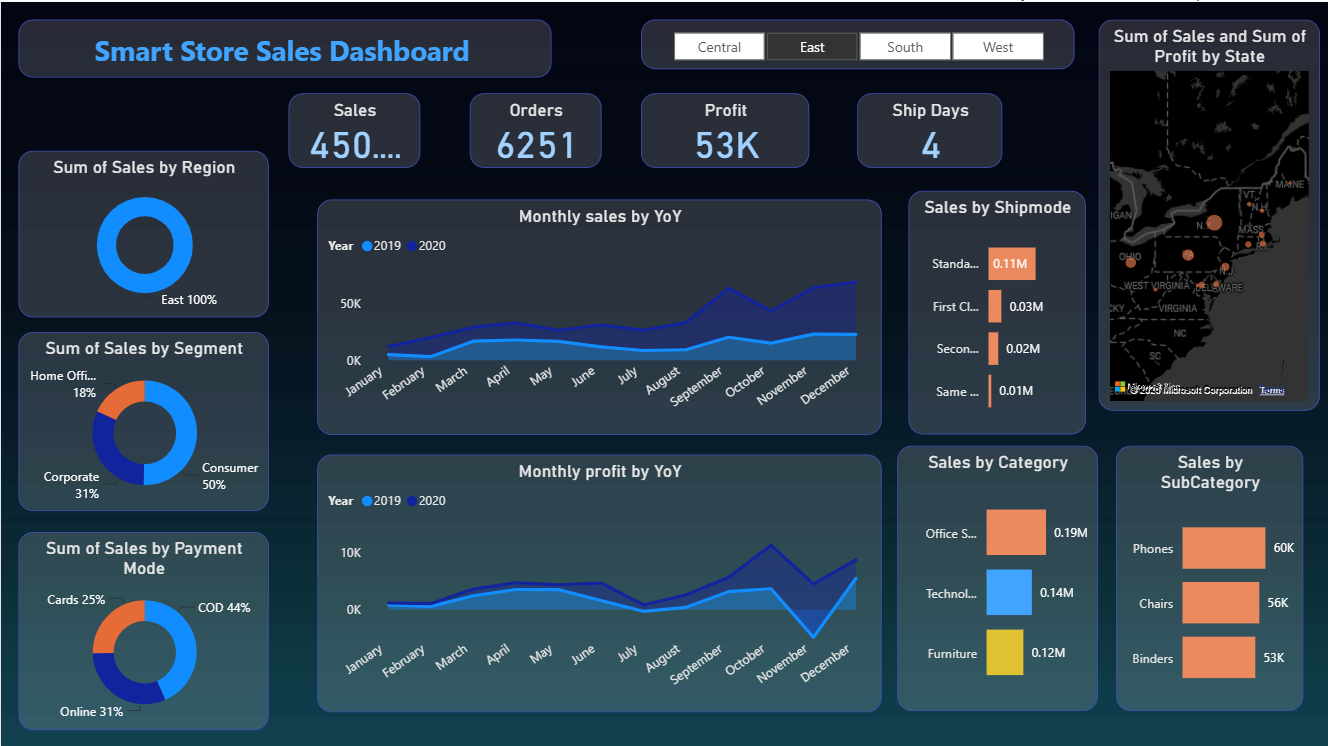

The dashboard page shown, as its layout file describes it:
{"tool":"powerbi","page":{"name":"Page 1","canvas":[1280,720],"ordinal":0},"visuals":[{"type":"clusteredBarChart","title":" Sales by Category","fields":{"Category":["SuperStore_Sales_Dataset.Category"],"Y":["Sum(SuperStore_Sales_Dataset.Sales)"]},"box":[864.4,428.8,193.3,255.8],"z":0},{"type":"clusteredBarChart","title":" Sales by SubCategory","fields":{"Category":["SuperStore_Sales_Dataset.Sub-Category"],"Y":["Sum(SuperStore_Sales_Dataset.Sales)"]},"box":[1075.9,428.6,180.9,256.4],"z":1000},{"type":"clusteredBarChart","title":" Sales by Shipmode","fields":{"Category":["SuperStore_Sales_Dataset.Ship Mode"],"Y":["Sum(SuperStore_Sales_Dataset.Sales)"]},"box":[876,181.7,171.2,235.6],"z":2000},{"type":"stackedAreaChart","title":"Monthly sales by YoY","fields":{"Category":["SuperStore_Sales_Dataset.Order Date.Variation.Date Hierarchy.Month","SuperStore_Sales_Dataset.Order Date.Variation.Date Hierarchy.Day"],"Series":["SuperStore_Sales_Dataset.Order Date.Variation.Date Hierarchy.Year"],"Y":["Sum(SuperStore_Sales_Dataset.Sales)"]},"box":[305.8,190.4,545.2,226.9],"z":3000},{"type":"stackedAreaChart","title":"Monthly profit by YoY","fields":{"Category":["SuperStore_Sales_Dataset.Order Date.Variation.Date Hierarchy.Month","SuperStore_Sales_Dataset.Order Date.Variation.Date Hierarchy.Day"],"Series":["SuperStore_Sales_Dataset.Order Date.Variation.Date Hierarchy.Year"],"Y":["Sum(SuperStore_Sales_Dataset.Profit)"]},"box":[305.8,436.5,545.2,249],"z":4000},{"type":"map","fields":{"Category":["SuperStore_Sales_Dataset.State"],"Size":["Sum(SuperStore_Sales_Dataset.Sales)"]},"box":[1059.6,17.3,213.5,377.9],"z":5000},{"type":"donutChart","fields":{"Category":["SuperStore_Sales_Dataset.Segment"],"Y":["Sum(SuperStore_Sales_Dataset.Sales)"]},"box":[17.3,318.3,241.3,173.1],"z":6000},{"type":"donutChart","fields":{"Category":["SuperStore_Sales_Dataset.Payment Mode"],"Y":["Sum(SuperStore_Sales_Dataset.Sales)"]},"box":[17.3,511.5,241.3,191.3],"z":7000},{"type":"slicer","fields":{"Values":["SuperStore_Sales_Dataset.Region"]},"box":[617.3,17.3,418.3,48.1],"z":8000},{"type":"textbox","box":[17.3,17.3,514.4,55.8],"z":9000},{"type":"card","title":"Sales","fields":{"Values":["Sum(SuperStore_Sales_Dataset.Sales)"]},"box":[276.9,87.5,126.9,72.1],"z":10000},{"type":"card","title":"Orders","fields":{"Values":["Sum(SuperStore_Sales_Dataset.Quantity)"]},"box":[451.9,87.5,126.9,72.1],"z":11000},{"type":"card","title":"Profit","fields":{"Values":["Sum(SuperStore_Sales_Dataset.Profit)"]},"box":[617.3,87.5,162.5,72.1],"z":12000},{"type":"card","title":"Ship Days","fields":{"Values":["Avg(SuperStore_Sales_Dataset.AvgDelivery)"]},"box":[826.9,87.5,140.4,72.1],"z":13000},{"type":"donutChart","fields":{"Category":["SuperStore_Sales_Dataset.Region"],"Y":["Sum(SuperStore_Sales_Dataset.Sales)"]},"box":[17.3,143.3,241.3,160.6],"z":14000}]}

Visuals, with their boxes in screenshot pixels (x1, y1, x2, y2), scaled from the page's 1280x720 canvas onto the 1328x746 screenshot:
" Sales by Category" clusteredBarChart: 897:444:1097:709
" Sales by SubCategory" clusteredBarChart: 1116:444:1304:710
" Sales by Shipmode" clusteredBarChart: 909:188:1086:432
"Monthly sales by YoY" stackedAreaChart: 317:197:883:432
"Monthly profit by YoY" stackedAreaChart: 317:452:883:710
map - SuperStore_Sales_Dataset.State x Sum(SuperStore_Sales_Dataset.Sales): 1099:18:1321:409
donutChart - SuperStore_Sales_Dataset.Segment x Sum(SuperStore_Sales_Dataset.Sales): 18:330:268:509
donutChart - SuperStore_Sales_Dataset.Payment Mode x Sum(SuperStore_Sales_Dataset.Sales): 18:530:268:728
slicer - SuperStore_Sales_Dataset.Region: 640:18:1074:68
textbox: 18:18:552:76
"Sales" card: 287:91:419:165
"Orders" card: 469:91:601:165
"Profit" card: 640:91:809:165
"Ship Days" card: 858:91:1004:165
donutChart - SuperStore_Sales_Dataset.Region x Sum(SuperStore_Sales_Dataset.Sales): 18:148:268:315
